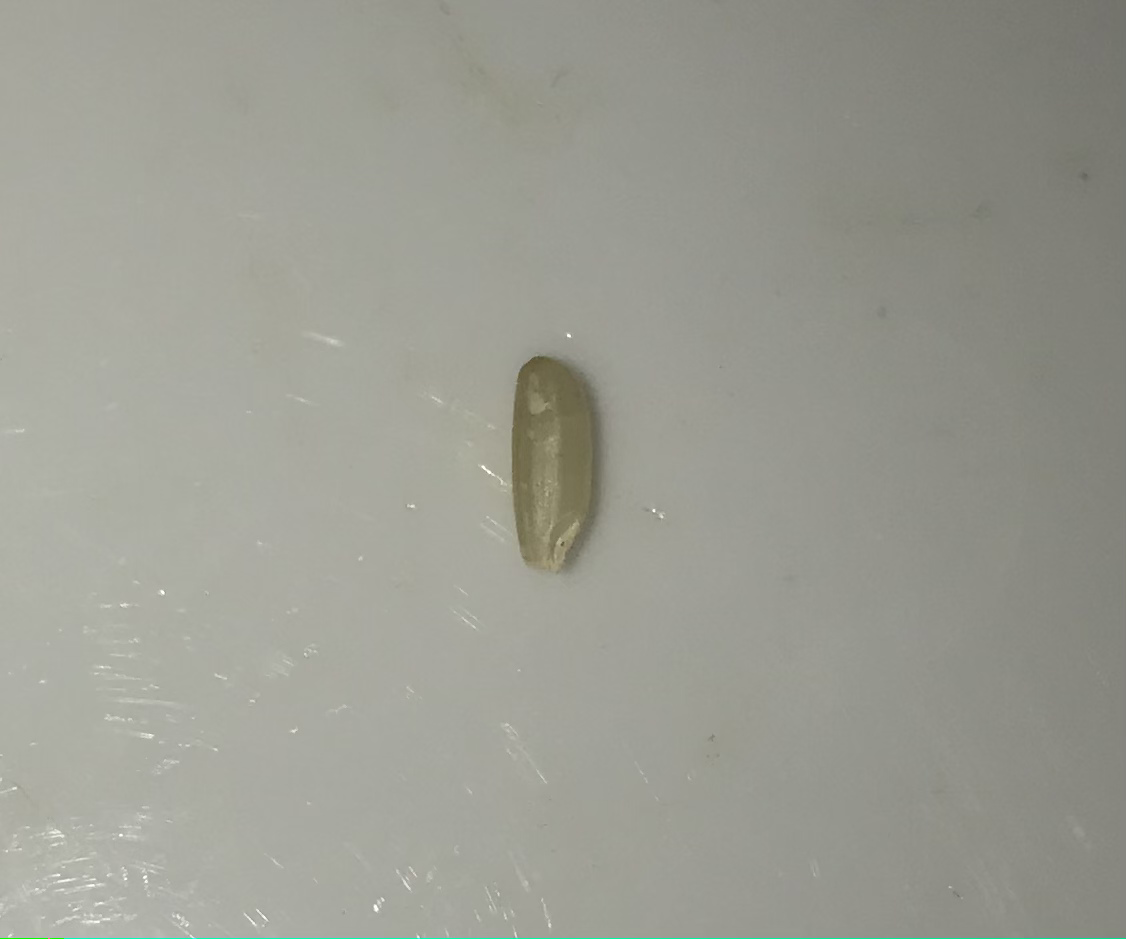Gao Lut Trang: (498, 355, 605, 575)
